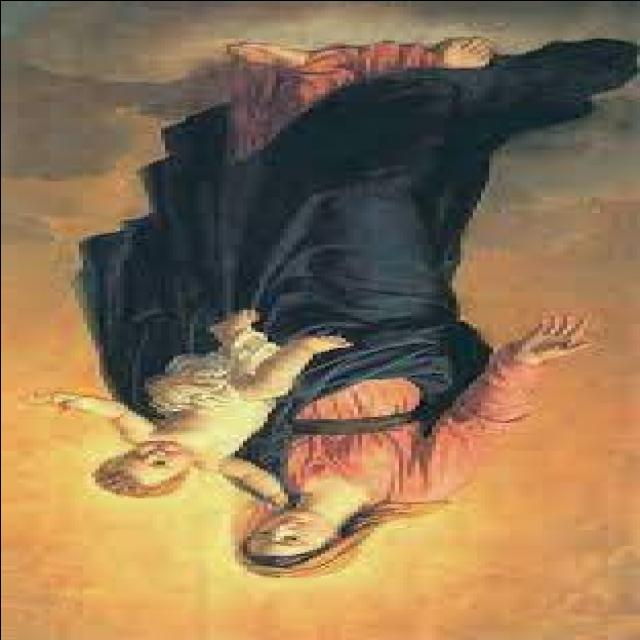mother of god: (80, 17, 608, 581)
